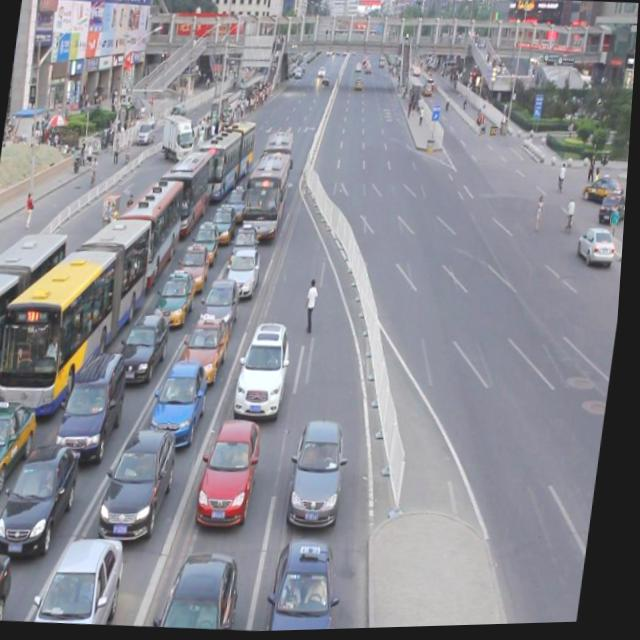bus: (160, 115, 198, 163)
car: (3, 437, 88, 559), (58, 348, 136, 466), (106, 430, 185, 545), (39, 532, 133, 627), (289, 417, 358, 532), (272, 541, 355, 633), (165, 547, 251, 633), (200, 421, 268, 526), (238, 319, 298, 419), (156, 362, 216, 448), (0, 392, 45, 497), (183, 311, 236, 388), (123, 309, 177, 381), (202, 277, 246, 337), (158, 268, 202, 327), (226, 248, 266, 300), (178, 241, 215, 295), (582, 172, 629, 209), (190, 220, 225, 268), (0, 548, 21, 622), (231, 222, 263, 270), (577, 231, 618, 268), (209, 204, 241, 246), (225, 185, 252, 224), (599, 191, 629, 225)
van: (0, 207, 158, 421), (0, 225, 71, 425), (116, 175, 190, 293), (193, 116, 257, 202), (157, 148, 216, 240), (242, 150, 296, 245), (261, 130, 298, 194)
